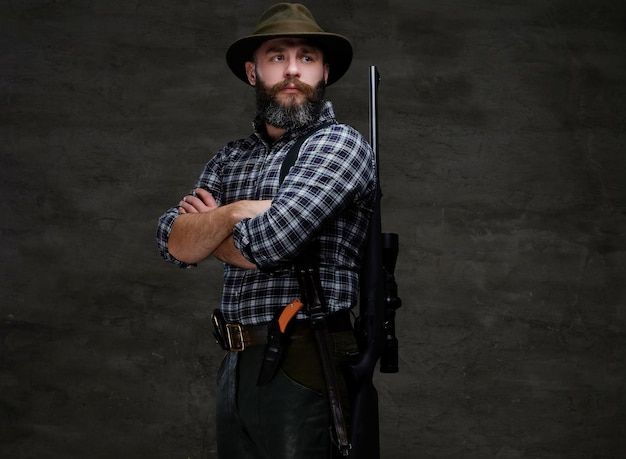gun: (270, 234, 355, 459), (366, 64, 402, 378)
